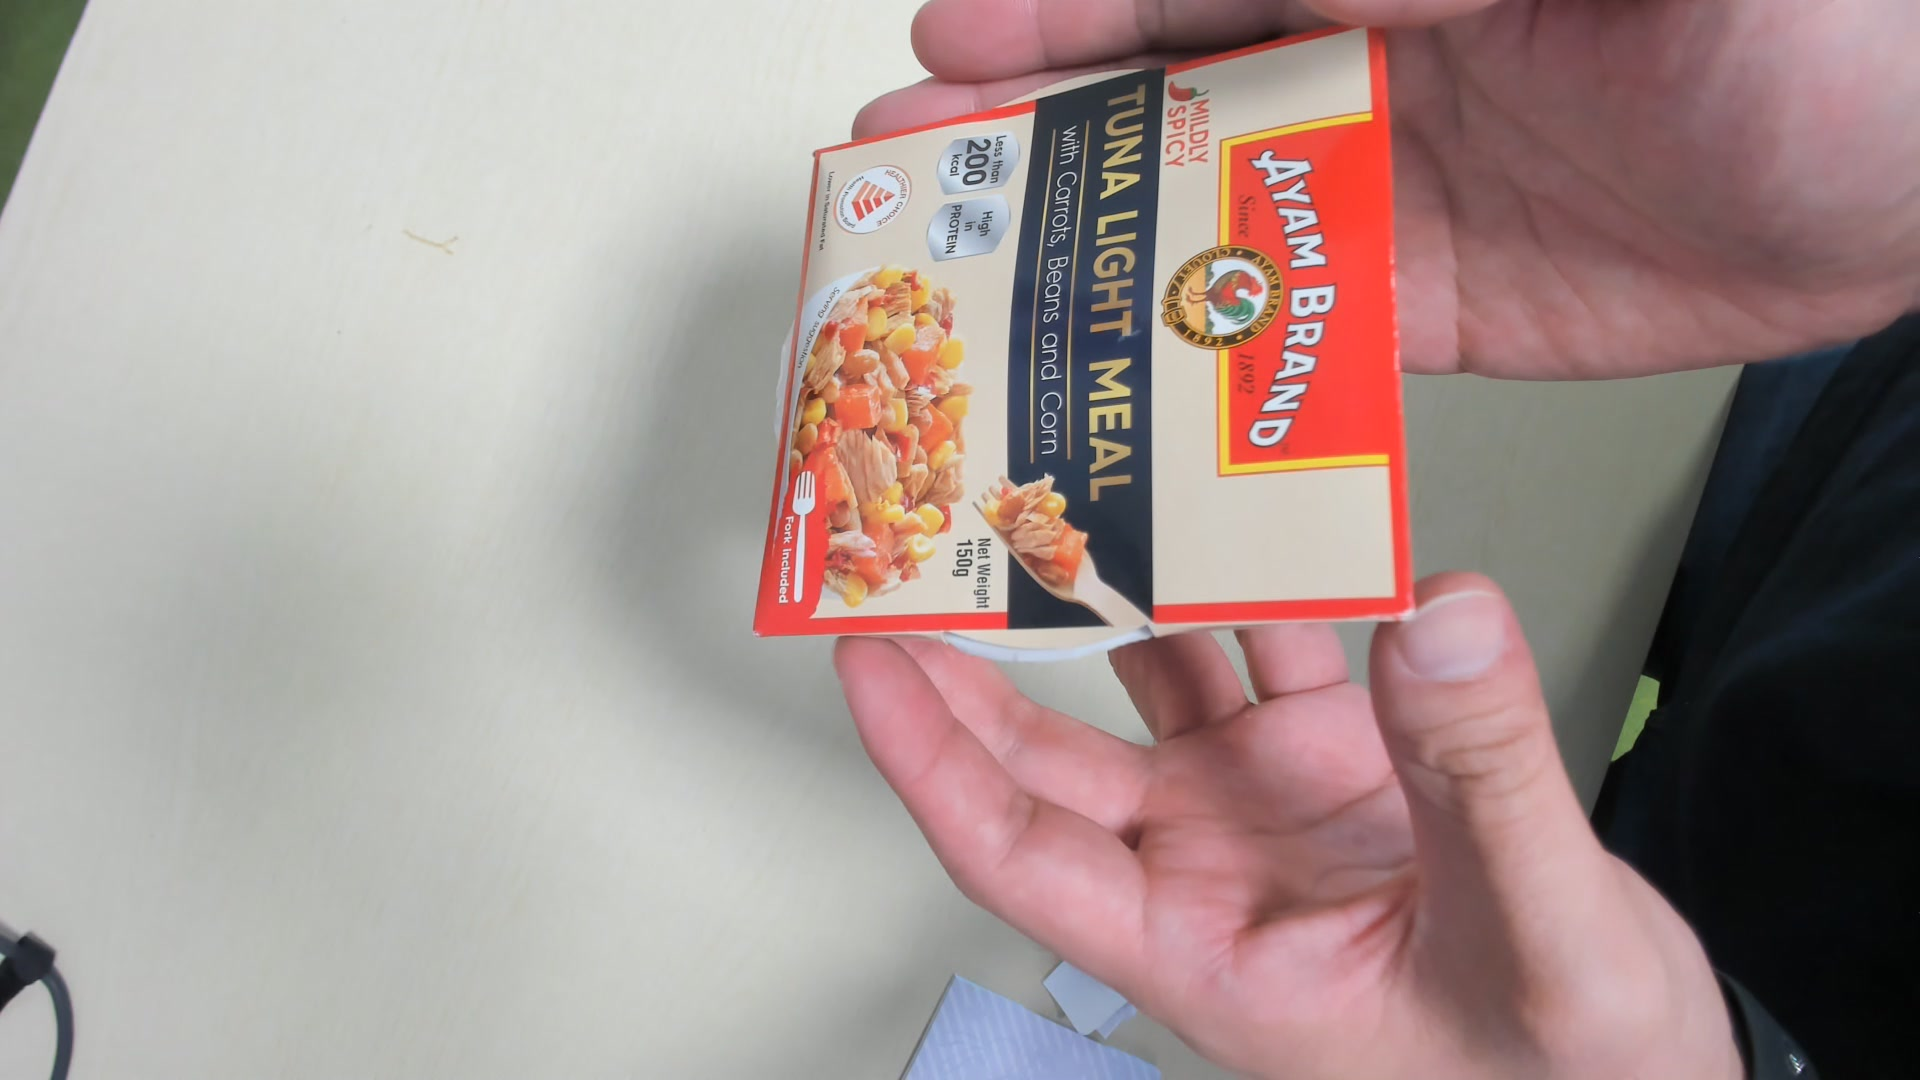InstantMeals_100-199g_NonHalal_Healthy: (748, 26, 1415, 659)
